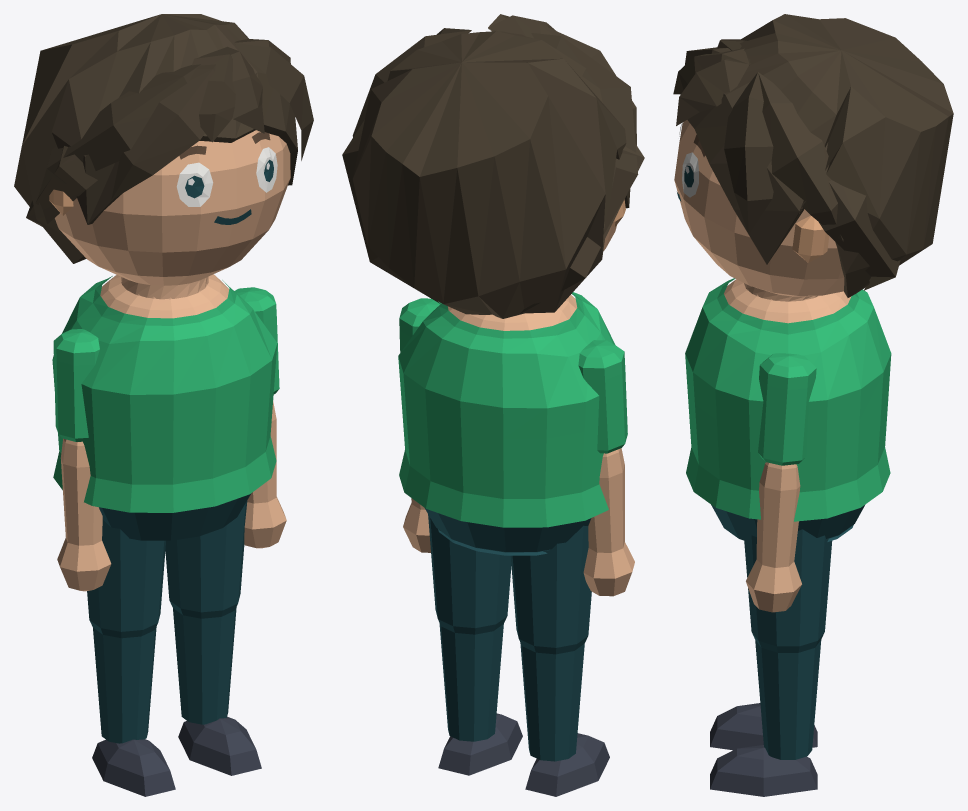
Rendered from refus-os.glb.
The picture shows the model from 3 angles, left to right: view 1: azimuth 30°, elevation 25°; view 2: azimuth 150°, elevation 25°; view 3: azimuth 270°, elevation 25°; orthographic projection.
Visible parts, largest first — view 1: torse.004, tete.004, tete.001, jambeD.001, jambeG.001, tibiaG.001, tibiaD.001, tete.008, tete.010, brasD.001, tibiaD.002, tibiaG.002 (+15 smaller); view 2: tete.004, torse.004, jambeD.001, jambeG.001, tibiaG.001, tibiaD.001, tete.010, brasD.001, torse.006, tibiaD.002, tibiaG.002, avantBrasD.001 (+11 smaller); view 3: tete.004, torse.004, tete.001, tibiaG.001, jambeG.001, tete.009, brasG.001, tete.007, tibiaG.002, avantBrasG.001, tete.011, tete.005 (+8 smaller).
Part boxes in pixels (bbox=[...]): torse.004: bbox=[52, 278, 277, 512]; tete.004: bbox=[14, 14, 297, 263]; tete.001: bbox=[55, 130, 290, 299]; jambeD.001: bbox=[87, 519, 165, 638]; jambeG.001: bbox=[165, 501, 247, 618]; tibiaG.001: bbox=[173, 607, 236, 724]; tibiaD.001: bbox=[93, 627, 156, 743]; tete.008: bbox=[111, 64, 215, 199]; tete.010: bbox=[38, 64, 200, 197]; brasD.001: bbox=[53, 329, 99, 441]; tibiaD.002: bbox=[92, 739, 175, 796]; tibiaG.002: bbox=[178, 716, 261, 775]; tete.004: bbox=[352, 31, 630, 318]; torse.004: bbox=[398, 292, 625, 527]; jambeD.001: bbox=[510, 525, 591, 654]; jambeG.001: bbox=[428, 514, 511, 634]; tibiaG.001: bbox=[439, 623, 503, 741]; tibiaD.001: bbox=[520, 643, 584, 761]; tete.010: bbox=[488, 28, 638, 234]; brasD.001: bbox=[578, 340, 627, 453]; torse.006: bbox=[425, 508, 591, 551]; tibiaD.002: bbox=[525, 733, 609, 796]; tibiaG.002: bbox=[438, 713, 522, 775]; avantBrasD.001: bbox=[588, 448, 624, 552]; tete.004: bbox=[687, 14, 953, 297]; torse.004: bbox=[685, 278, 891, 521]; tete.001: bbox=[674, 120, 844, 301]; tibiaG.001: bbox=[755, 640, 821, 759]; jambeG.001: bbox=[744, 529, 832, 652]; tete.009: bbox=[758, 72, 843, 241]; brasG.001: bbox=[758, 353, 816, 465]; tete.007: bbox=[724, 72, 773, 234]; tibiaG.002: bbox=[710, 745, 817, 796]; avantBrasG.001: bbox=[756, 462, 800, 567]; tete.011: bbox=[819, 143, 900, 290]; tete.005: bbox=[676, 58, 749, 125].
Size of the model in its own units: 0.6765 by 1.81 by 0.6318.
